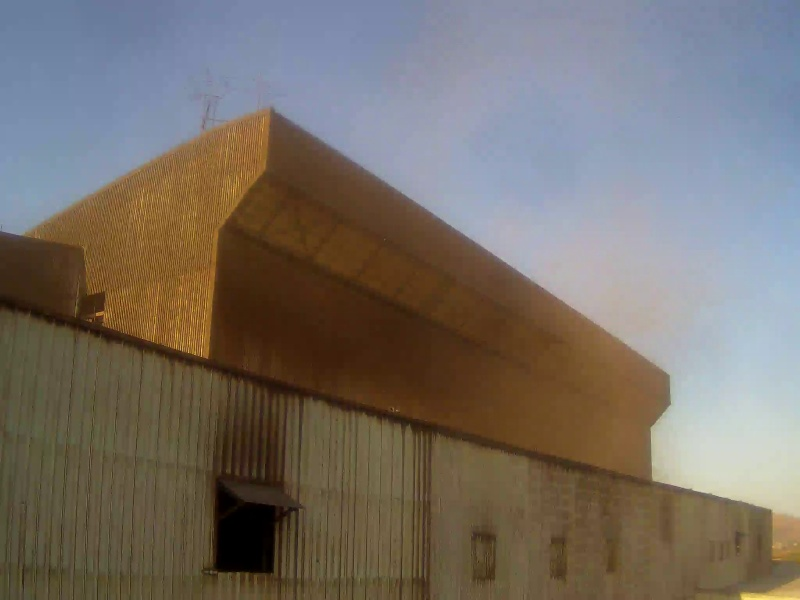bom: (4, 8, 286, 156)
pessimo: (426, 35, 710, 483)
